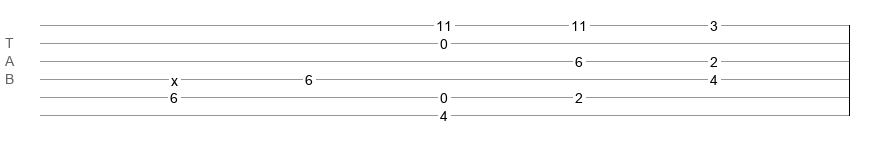0: (440, 36, 448, 46), (440, 90, 448, 100)
11: (436, 18, 452, 28), (571, 18, 587, 28)
2: (575, 90, 583, 100), (710, 54, 718, 64)
3: (710, 18, 718, 28)
4: (440, 108, 448, 118), (710, 72, 718, 82)
6: (170, 90, 178, 100), (305, 72, 313, 82), (575, 54, 583, 64)
x: (171, 73, 178, 81)
